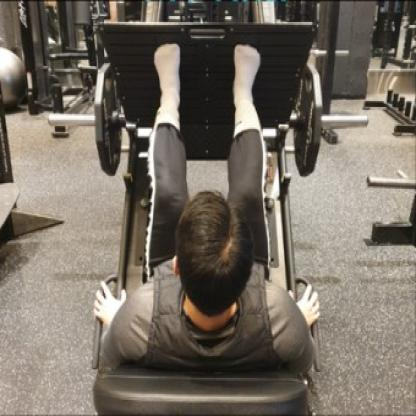leg press: (64, 9, 355, 416)
